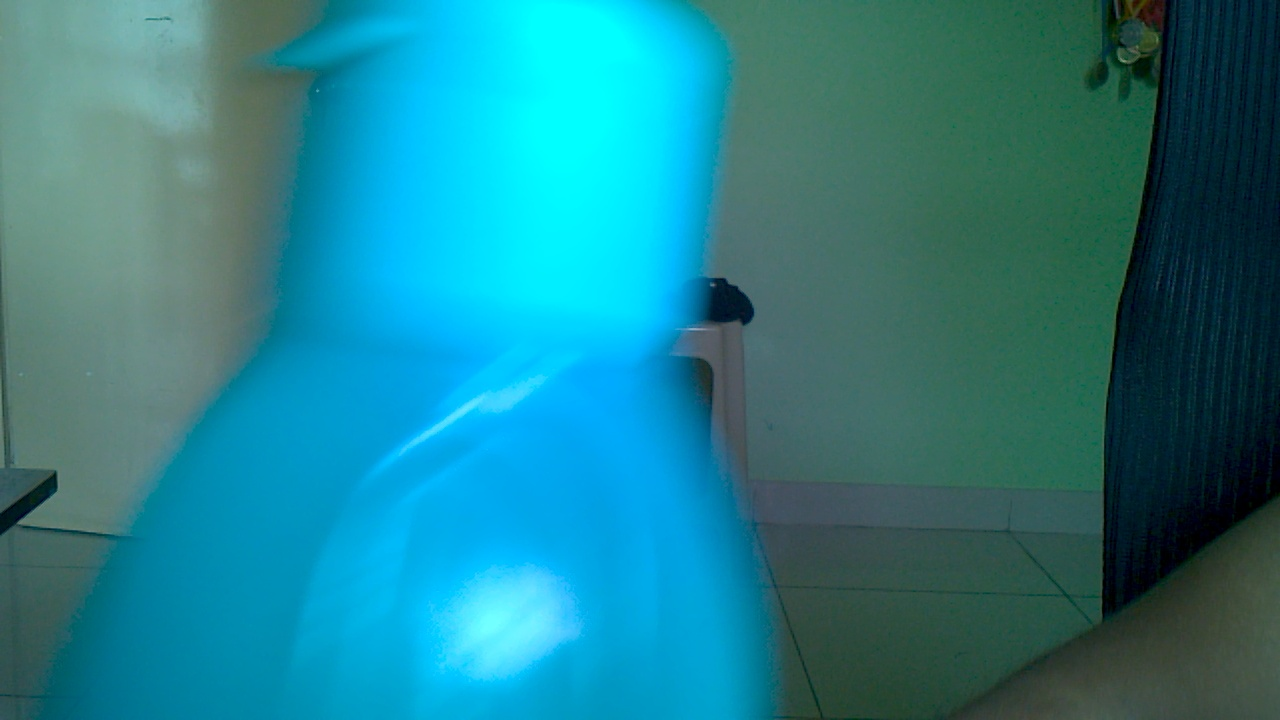waterbottle: (10, 1, 833, 720)
